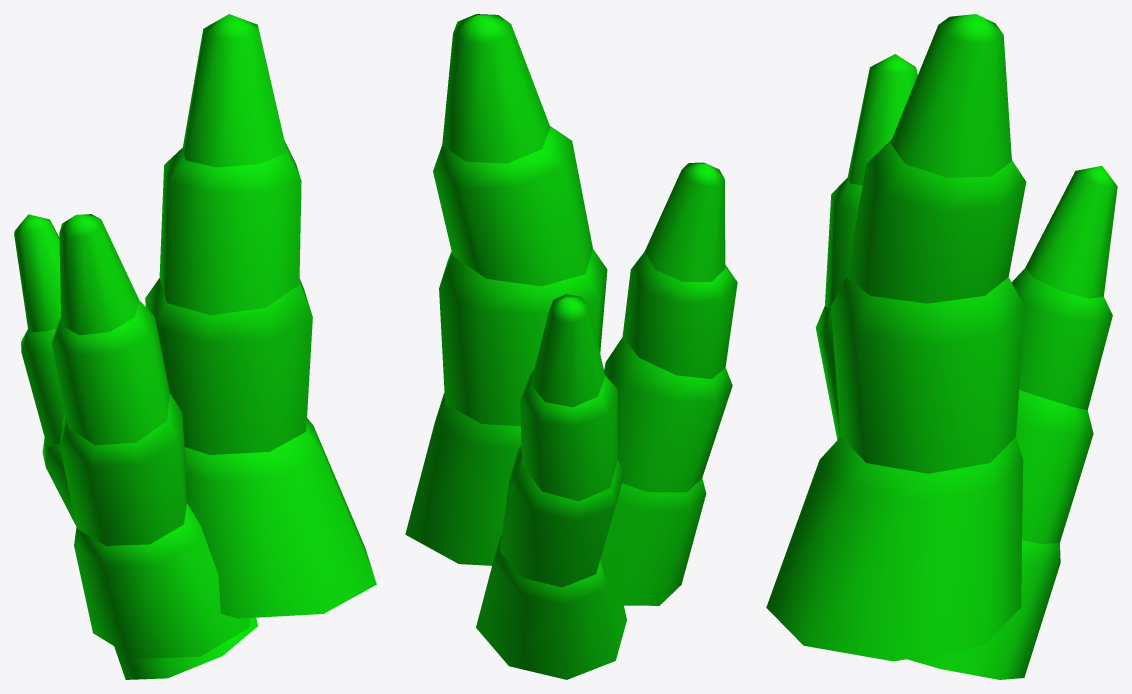
File: m_spire2.fbx
3 renders of one model, left to right at view 1: azimuth 30°, elevation 25°; view 2: azimuth 150°, elevation 25°; view 3: azimuth 270°, elevation 25°, orthographic. The views are drawn at different scales.
Parts seen in each view (by area): view 1: m_spire2; view 2: m_spire2; view 3: m_spire2.
Boxes of the visible parts, x1,y1,x2,y2 form: m_spire2: [14, 14, 376, 679]; m_spire2: [405, 14, 737, 679]; m_spire2: [766, 14, 1117, 679].
Bounding box in the file's own units: 1.66 × 3.24 × 1.47.
